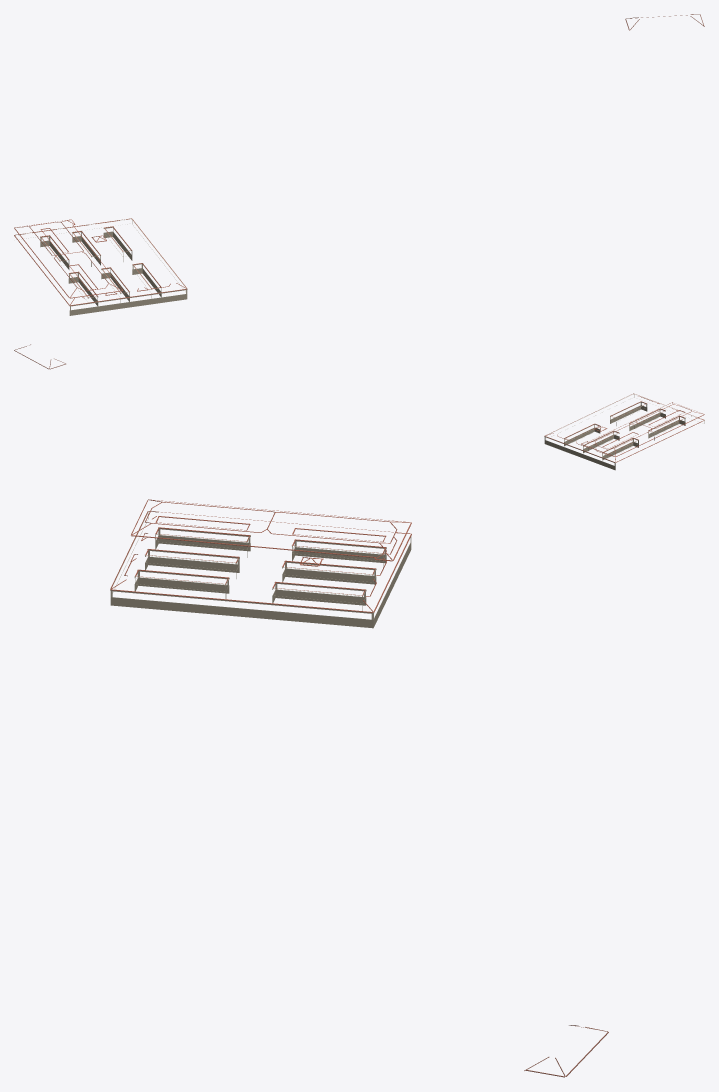
3 renders of one model, top to bottom at view 1: azimuth 30°, elevation 25°; view 2: azimuth 150°, elevation 25°; view 3: azimuth 270°, elevation 25°, orthographic. The views are drawn at different scales.
Visible parts, largest first — view 1: detail; view 2: detail; view 3: detail.
Boxes of the visible parts, x1,y1,x2,y2 form: detail: [14, 14, 704, 315]; detail: [14, 344, 704, 470]; detail: [110, 499, 608, 1077].
Size of the model in its own units: 445 by 13.09 by 164.
